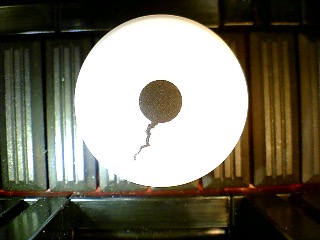CRACK: (74, 14, 248, 187)
